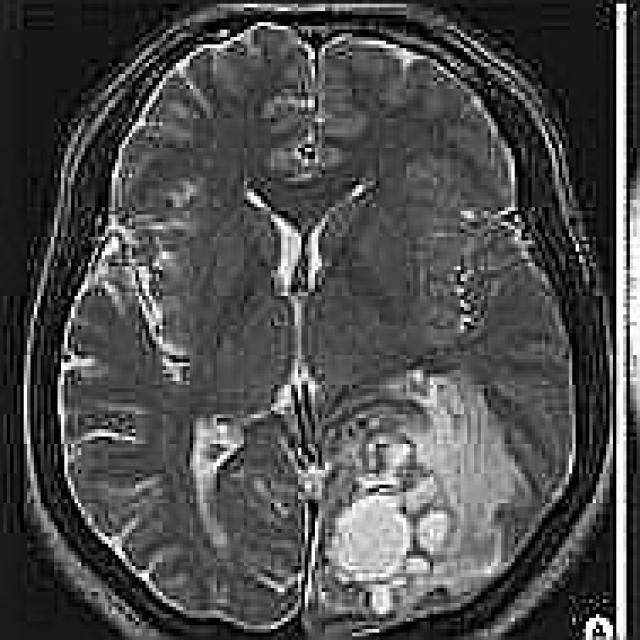Tumor-Cell: (290, 412, 456, 615)
